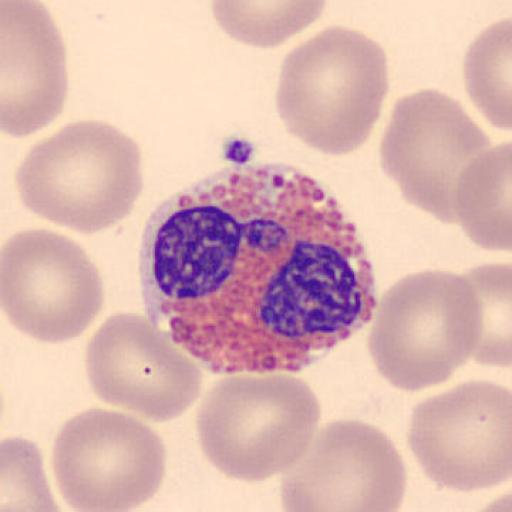RBC: (378, 86, 492, 224), (275, 24, 391, 159), (14, 118, 145, 236), (366, 268, 484, 394), (195, 372, 323, 484), (83, 310, 204, 424), (49, 405, 169, 512), (2, 226, 106, 346), (405, 378, 512, 494), (281, 417, 407, 512), (1, 0, 70, 137), (453, 138, 512, 253), (451, 259, 512, 369), (209, 0, 330, 49), (462, 16, 512, 132), (1, 434, 63, 512), (472, 486, 512, 512)
WBC: (139, 164, 376, 375)
